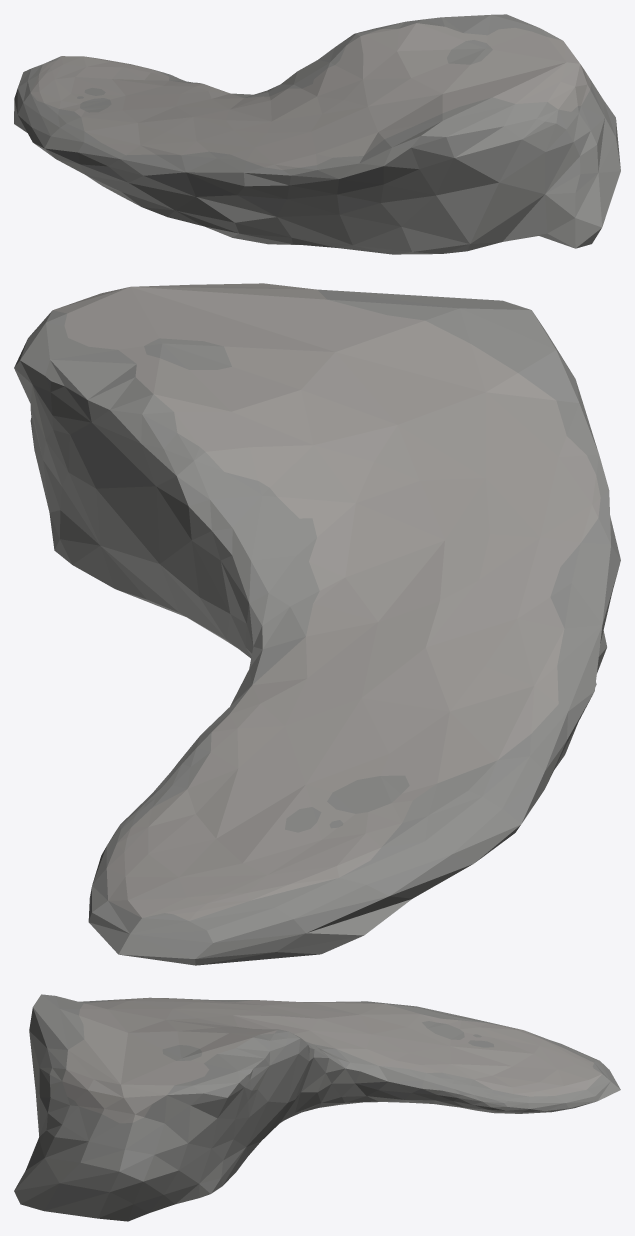
Rendered from Cavern_Floor_Narrow_Ramp_Lrg-03.fbx.
3 renders of one model, top to bottom at view 1: azimuth 30°, elevation 25°; view 2: azimuth 150°, elevation 25°; view 3: azimuth 270°, elevation 25°, orthographic. The views are drawn at different scales.
Parts seen in each view (by area): view 1: Cavern_Floor_Narrow_Ramp_Lrg-03; view 2: Cavern_Floor_Narrow_Ramp_Lrg-03; view 3: Cavern_Floor_Narrow_Ramp_Lrg-03.
Boxes of the visible parts, <box> form: Cavern_Floor_Narrow_Ramp_Lrg-03: <box>14,14,620,254</box>; Cavern_Floor_Narrow_Ramp_Lrg-03: <box>14,283,620,965</box>; Cavern_Floor_Narrow_Ramp_Lrg-03: <box>14,994,620,1221</box>.
Size of the model in its own units: 1611 by 557 by 2085.
1 material, 1 textured.
